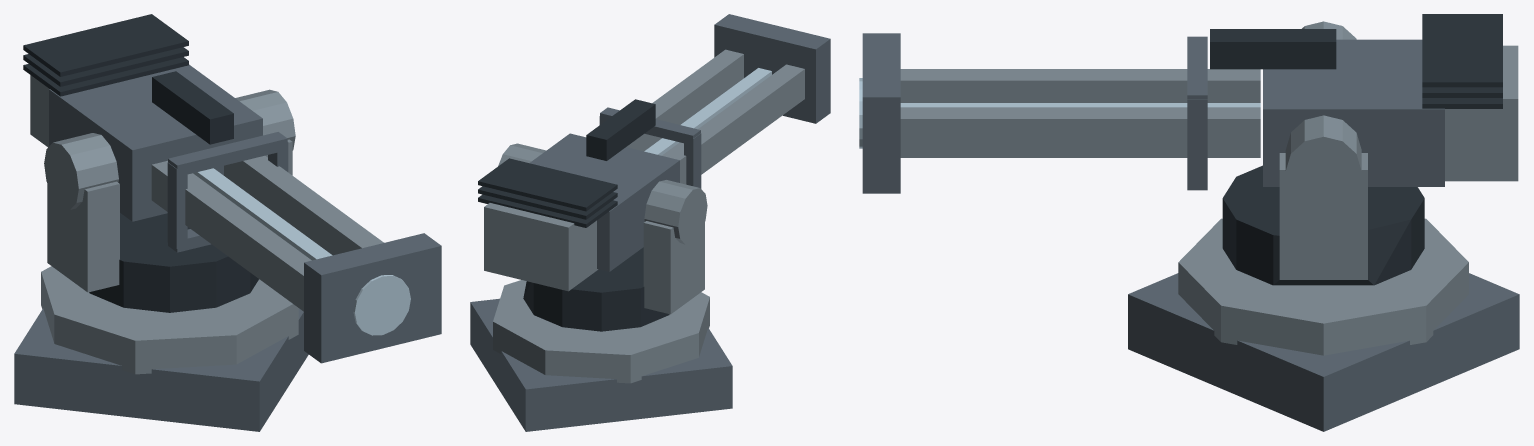
Rendered from lancer_t1_d0.meshopt.glb.
The picture shows the model from 3 angles, left to right: view 1: azimuth 30°, elevation 25°; view 2: azimuth 150°, elevation 25°; view 3: azimuth 270°, elevation 25°; orthographic projection. The views are drawn at different scales.
Parts seen in each view (by area): view 1: ROOT_ARMOR_GEOMETRY; view 2: ROOT_ARMOR_GEOMETRY; view 3: ROOT_ARMOR_GEOMETRY.
Boxes of the visible parts, <box> form: ROOT_ARMOR_GEOMETRY: <box>14,14,441,431</box>; ROOT_ARMOR_GEOMETRY: <box>470,14,830,431</box>; ROOT_ARMOR_GEOMETRY: <box>859,14,1519,431</box>.
Bounding box in the file's own units: 1.55 × 1.37 × 2.61.
